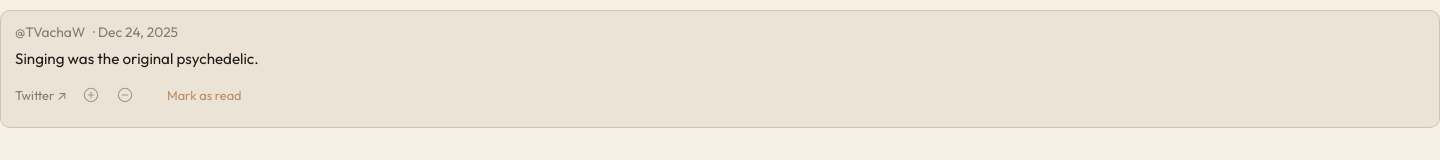
a good / bad verdict marks the quote read too, and tells the page
Click the button named "Bad quote" at {"x": 125, "y": 95}, box [108,75,142,115]
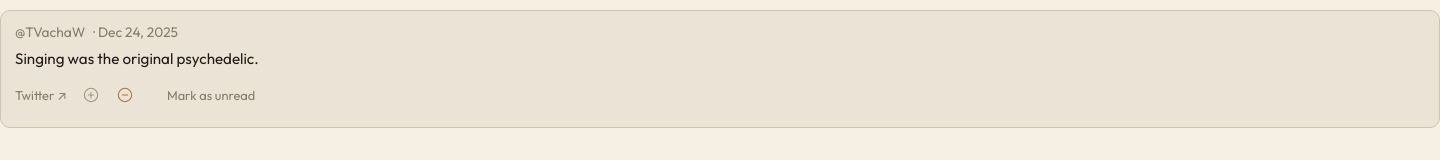
Expected: the button "Mark as unread" is shown, [167,87,255,103]
